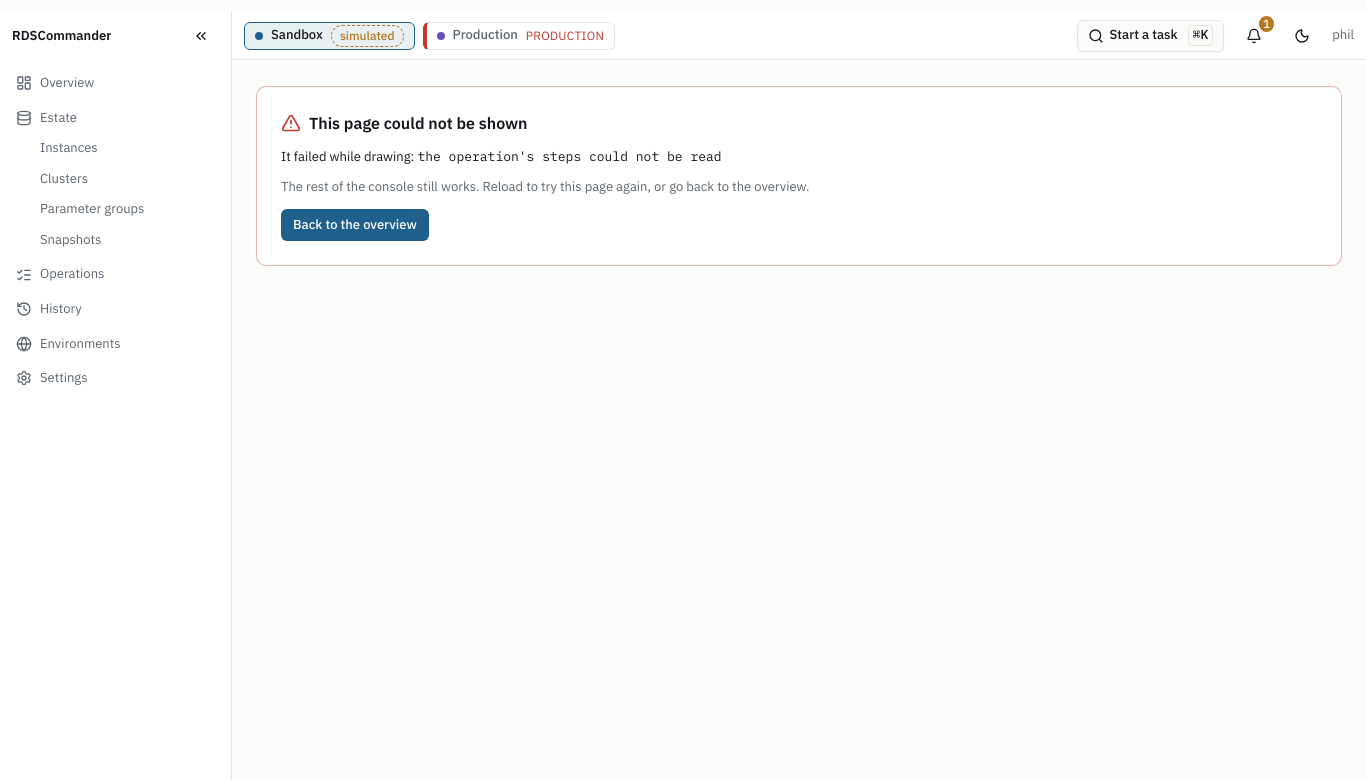
Test case: Shell when a page fails › shows the page's error inside the shell with a way back to the overview, which works
Check: the message shows "This page could not be shown", box [309,113,528,133]
Check: the message shows "the operation's steps could not be read", box [417,148,722,165]
Click the link "Back to the overview". click: [355, 225]
box: [281,209,429,241]
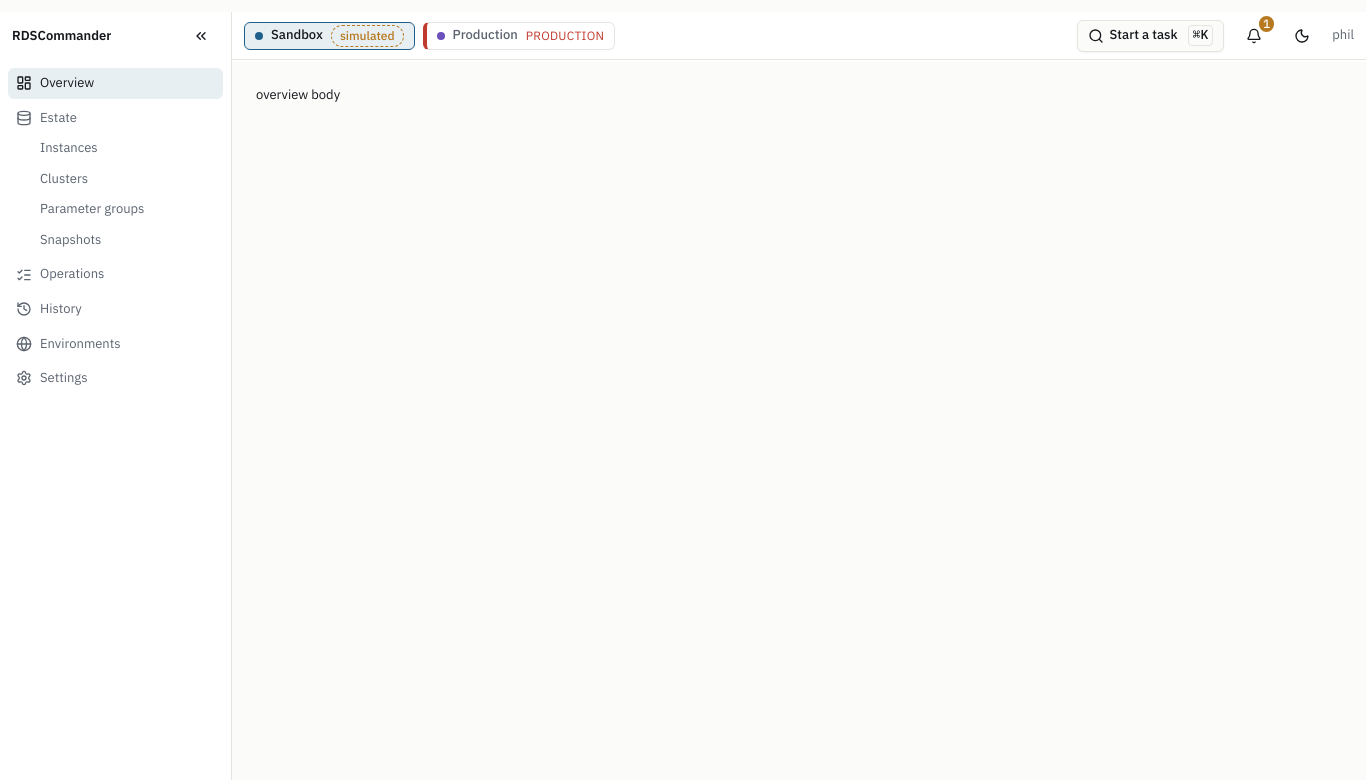
Check: the text "overview body" is shown, box [256,86,340,103]
Check: the message is gone
